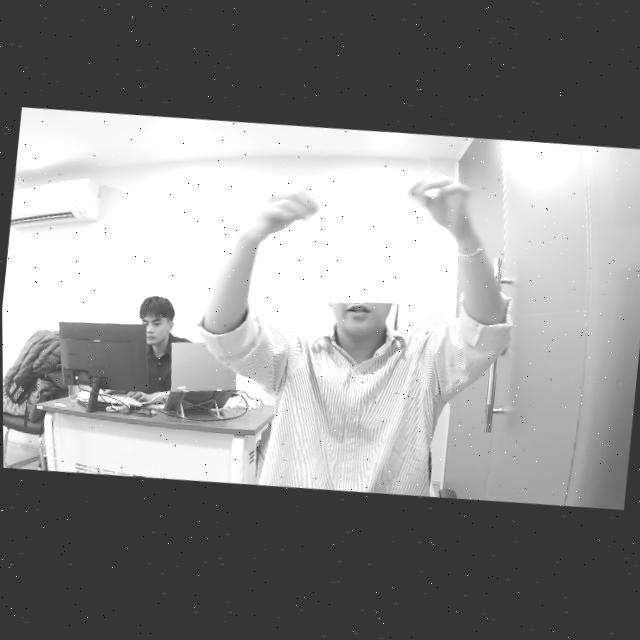face: (142, 292, 180, 347)
